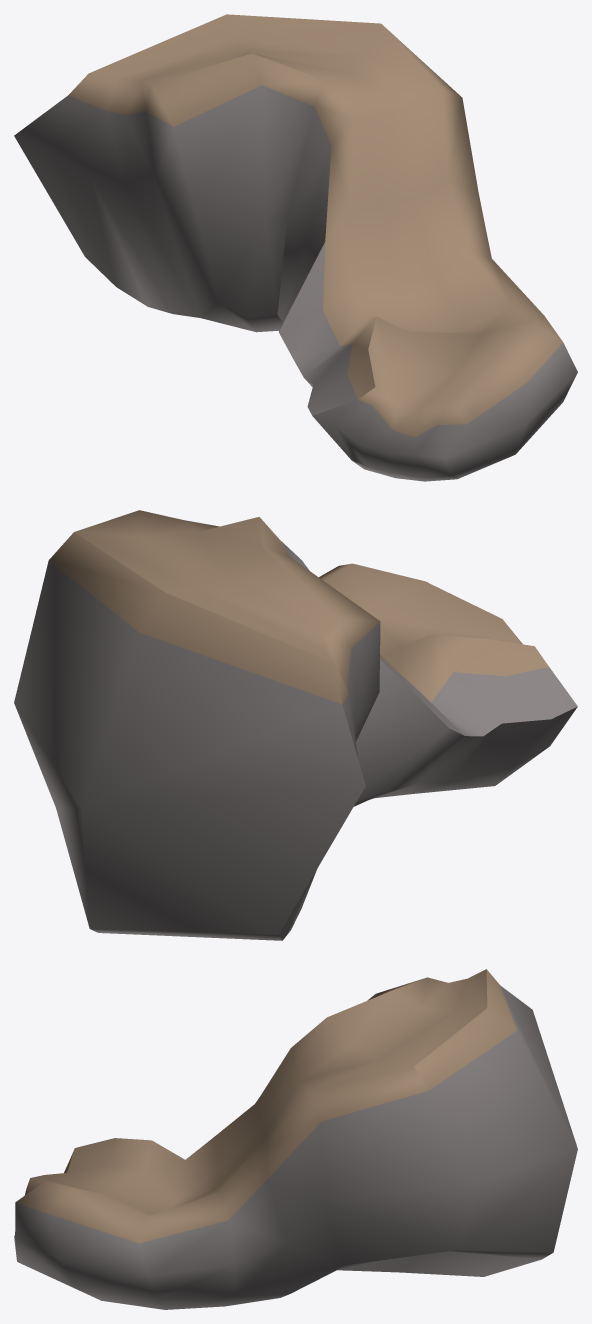
File: Schwebeplattform_2.fbx
3 renders of one model, top to bottom at view 1: azimuth 30°, elevation 25°; view 2: azimuth 150°, elevation 25°; view 3: azimuth 270°, elevation 25°, orthographic. The views are drawn at different scales.
Parts seen in each view (by area): view 1: Schwebeplattform_2; view 2: Schwebeplattform_2; view 3: Schwebeplattform_2.
Boxes of the visible parts, left/top/right/bottom form: Schwebeplattform_2: left=14, top=14, right=577, bottom=481; Schwebeplattform_2: left=14, top=510, right=577, bottom=940; Schwebeplattform_2: left=14, top=969, right=577, bottom=1309.
Bounding box in the file's own units: 2549 × 2251 × 4069.
